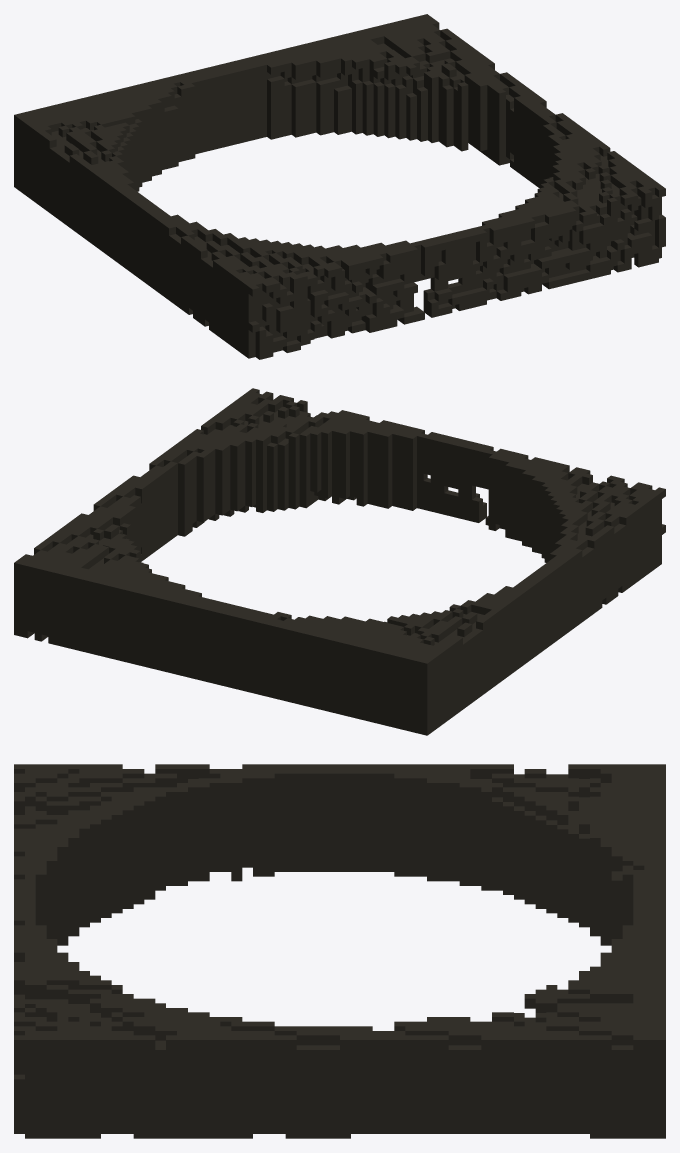
The model's file is screwBase.obj.
3 renders of one model, top to bottom at view 1: azimuth 30°, elevation 25°; view 2: azimuth 150°, elevation 25°; view 3: azimuth 270°, elevation 25°, orthographic. The views are drawn at different scales.
Bounding box in the file's own units: 6 × 1 × 6.
1 material, 1 textured.
